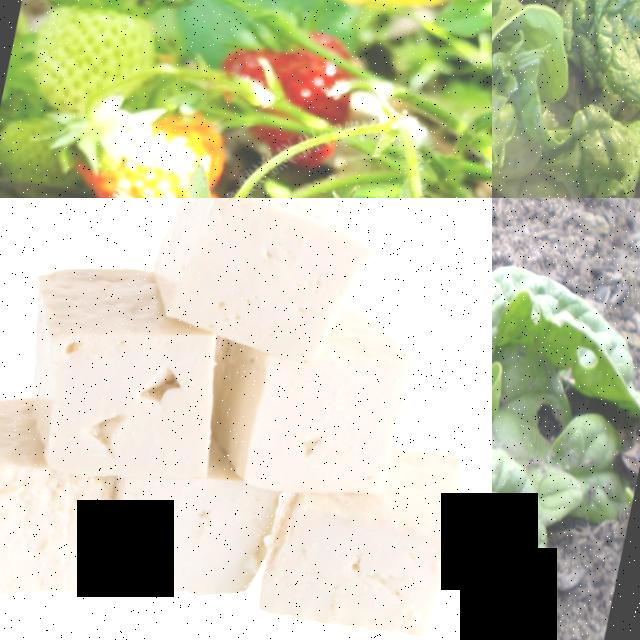spinach: (492, 416, 562, 640)
tofu: (0, 244, 233, 503), (126, 198, 379, 379), (240, 466, 465, 640), (260, 303, 430, 513), (84, 458, 258, 624), (0, 381, 34, 607)
